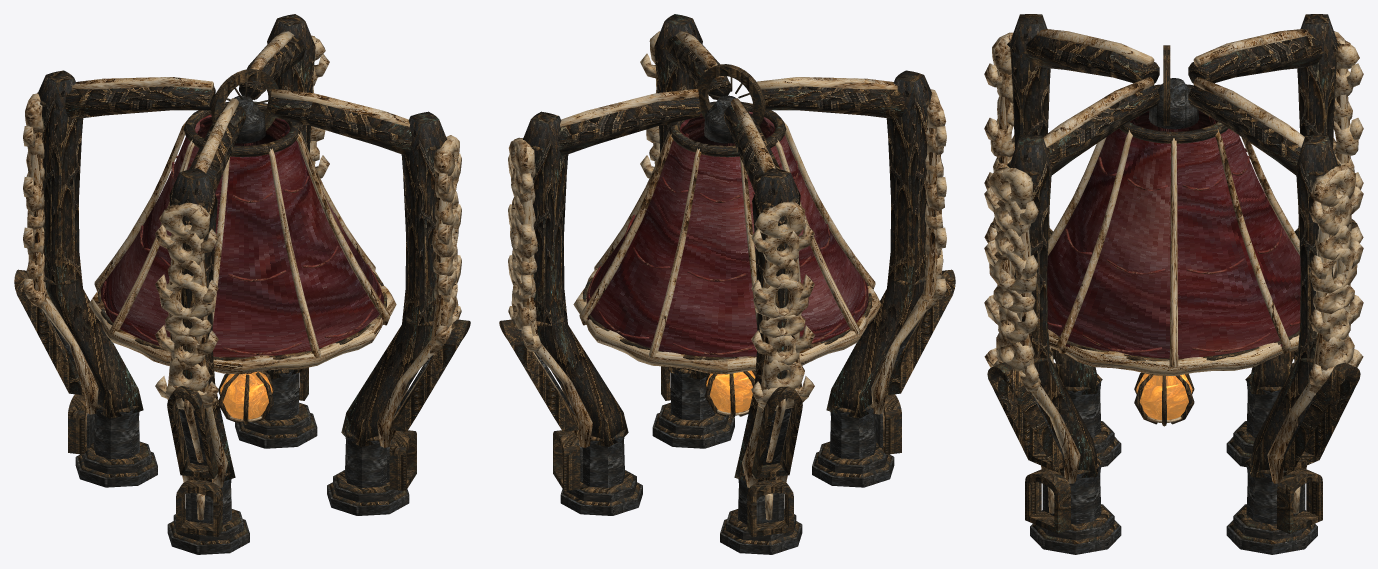
Rendered from skin_bell.glb.
3 views of the same model, side by side, from view 1: azimuth 30°, elevation 25°; view 2: azimuth 150°, elevation 25°; view 3: azimuth 270°, elevation 25° (orthographic). The views are drawn at different scales.
Parts seen in each view (by area): view 1: skin_bell_brass, skin_bell_ivory, skin_bell_tissue, skin_bell_amber; view 2: skin_bell_brass, skin_bell_ivory, skin_bell_tissue, skin_bell_amber; view 3: skin_bell_brass, skin_bell_ivory, skin_bell_tissue, skin_bell_amber.
Boxes of the visible parts, x1,y1,x2,y2 form: skin_bell_brass: (14, 14, 470, 554); skin_bell_ivory: (23, 31, 461, 520); skin_bell_tissue: (100, 114, 384, 373); skin_bell_amber: (220, 371, 272, 419); skin_bell_brass: (499, 14, 955, 554); skin_bell_ivory: (508, 31, 946, 520); skin_bell_tissue: (586, 111, 868, 357); skin_bell_amber: (706, 370, 755, 412); skin_bell_brass: (987, 14, 1360, 554); skin_bell_ivory: (984, 29, 1363, 513); skin_bell_tissue: (1047, 110, 1300, 358); skin_bell_amber: (1136, 373, 1192, 419).
Bounding box in the file's own units: 6.32 × 8.18 × 6.32.
Materials: 4 (4 with a texture image).
